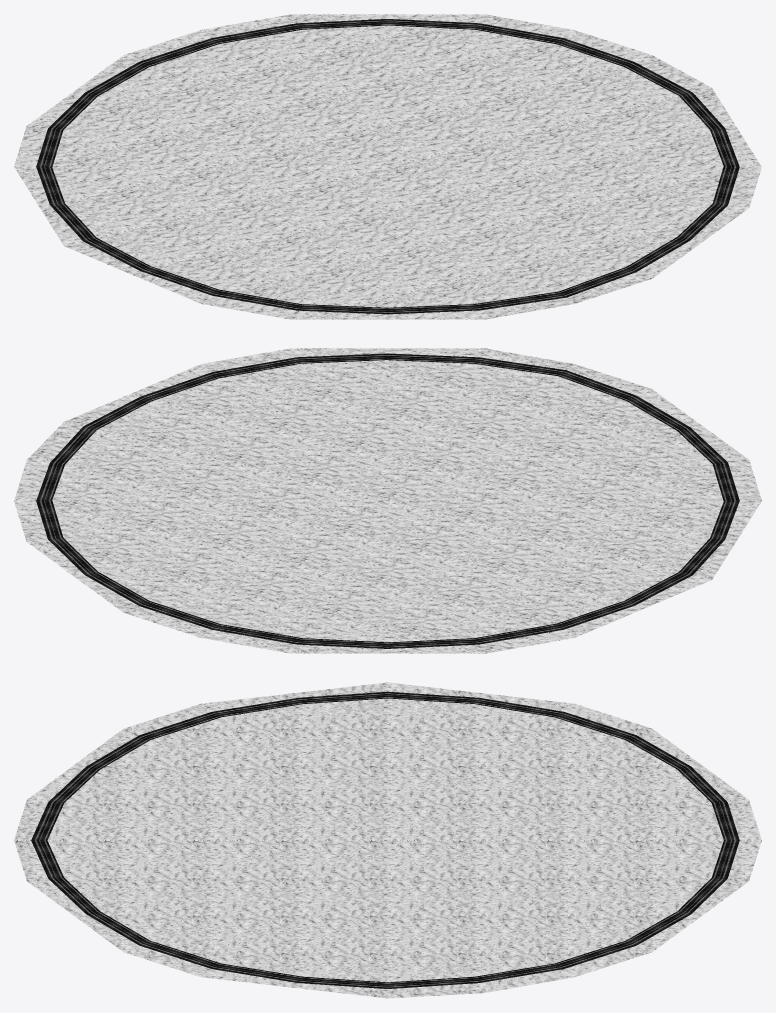
Rendered from lv3boss_water.dae.
3 views of the same model, one above another, from view 1: azimuth 30°, elevation 25°; view 2: azimuth 150°, elevation 25°; view 3: azimuth 270°, elevation 25° (orthographic).
Parts seen in each view (by area): view 1: Shape 0, Shape 1; view 2: Shape 0, Shape 1; view 3: Shape 0, Shape 1.
Boxes of the visible parts, x1=… form: Shape 0: x1=14, y1=14, x2=761, y2=319; Shape 1: x1=36, y1=19, x2=739, y2=314; Shape 0: x1=14, y1=348, x2=761, y2=653; Shape 1: x1=36, y1=353, x2=739, y2=648; Shape 0: x1=14, y1=682, x2=761, y2=998; Shape 1: x1=31, y1=691, x2=739, y2=988.
Size of the model in its own units: 21634 by 2 by 21634.
